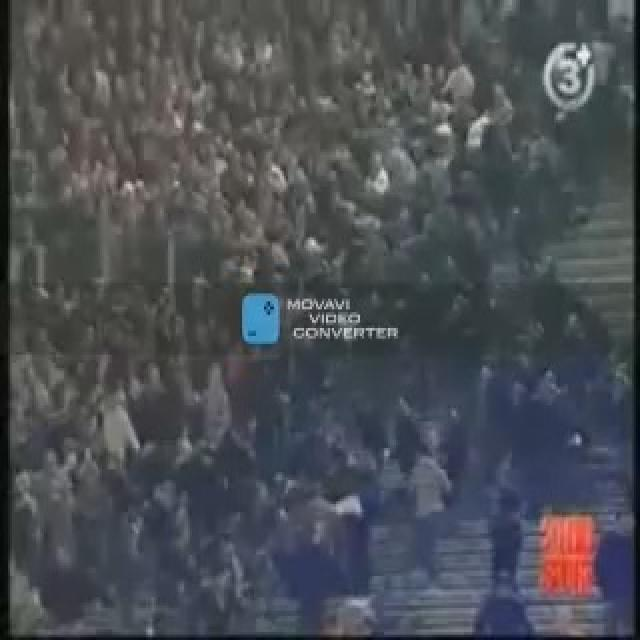non-voilence: (6, 0, 632, 637), (540, 37, 596, 112), (238, 290, 280, 346)
